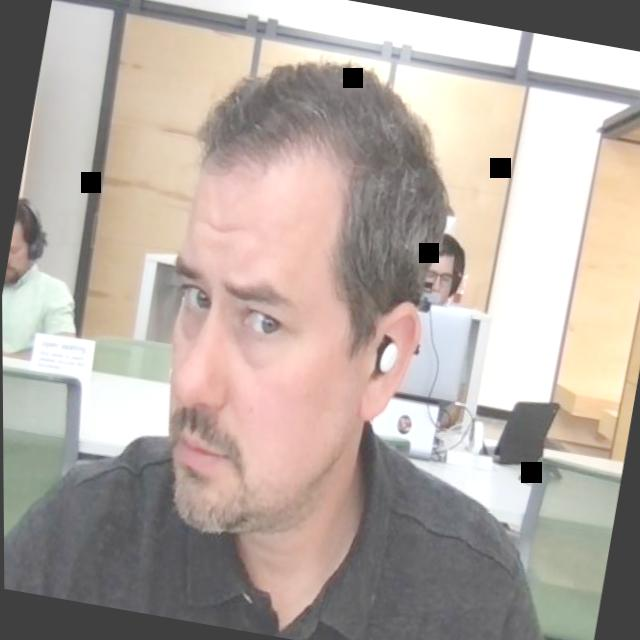NO-Mask: (126, 38, 472, 570), (3, 196, 58, 288)
